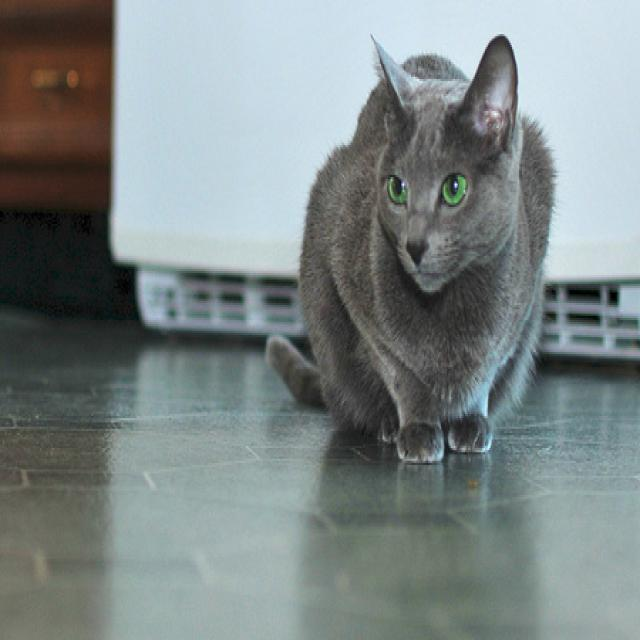Russian Blue: (263, 23, 561, 467)
